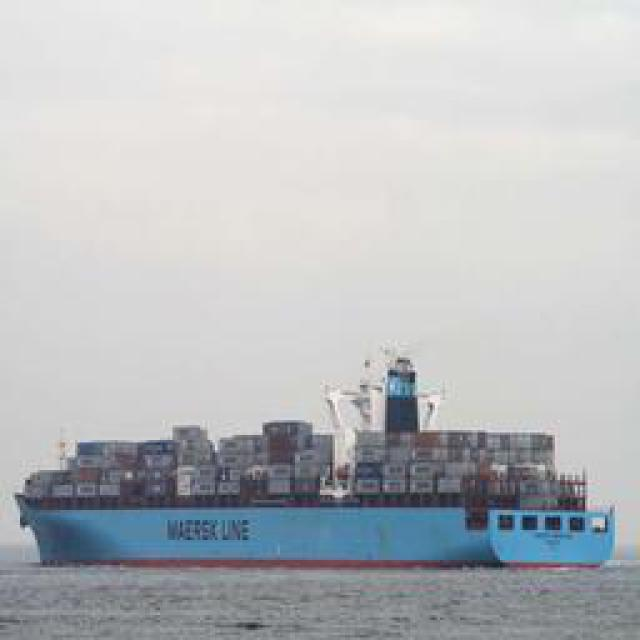Ship: (19, 374, 614, 569)
